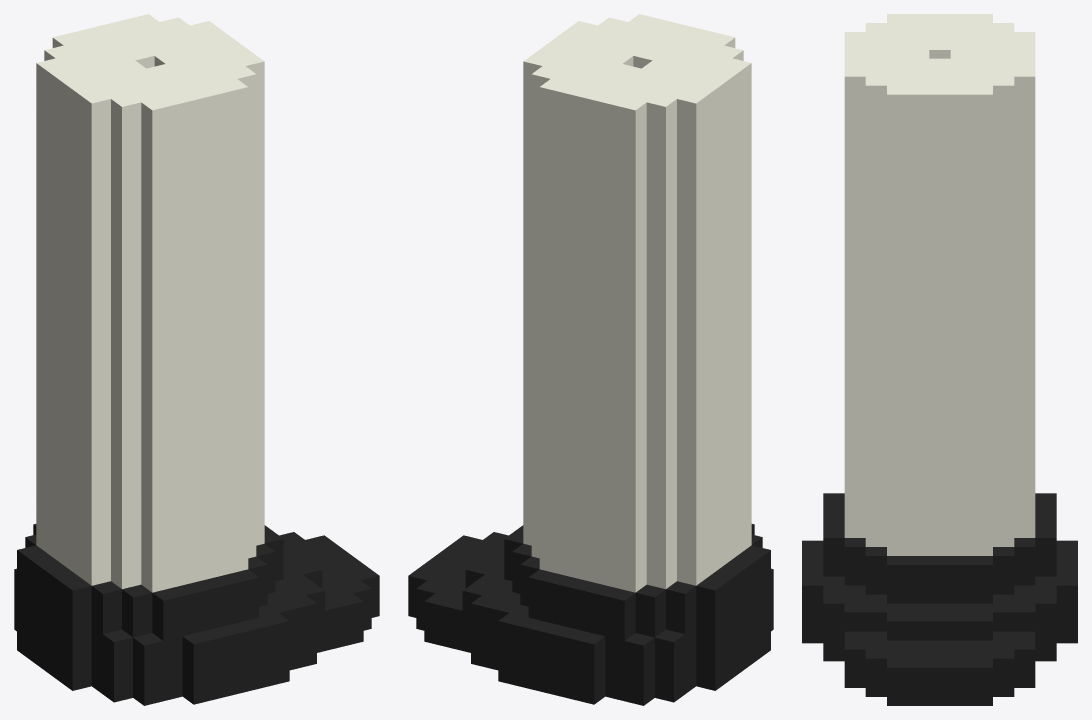
Rendered from Leg.obj.
3 views of the same model, side by side, from view 1: azimuth 30°, elevation 25°; view 2: azimuth 150°, elevation 25°; view 3: azimuth 270°, elevation 25° (orthographic). The views are drawn at different scales.
Bounding box in the file's own units: 16 × 29 × 13.
